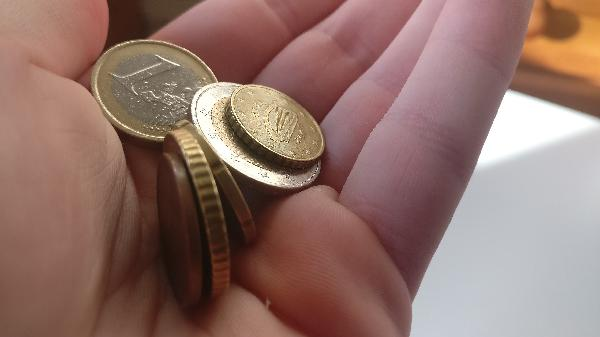Fifty Cent: (165, 125, 237, 293)
Five Cent: (154, 150, 204, 310)
One Euro: (95, 38, 222, 144)
Ten Cent: (230, 77, 324, 168)
Twenty Cent: (174, 117, 254, 241)
Two Euro: (191, 82, 331, 185)
